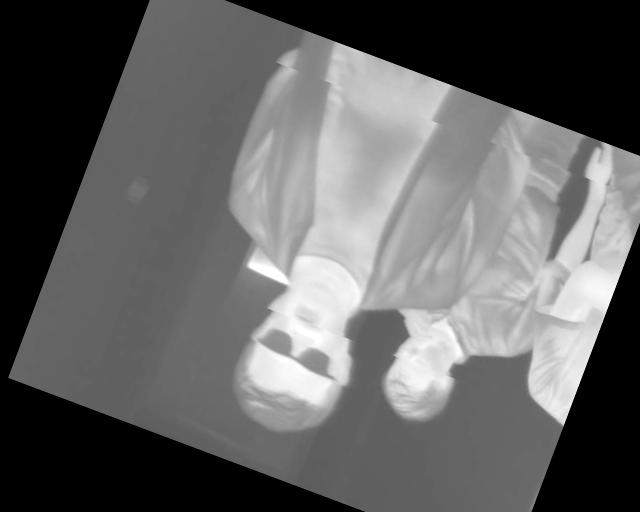face: (220, 276, 373, 451), (370, 315, 473, 432)
